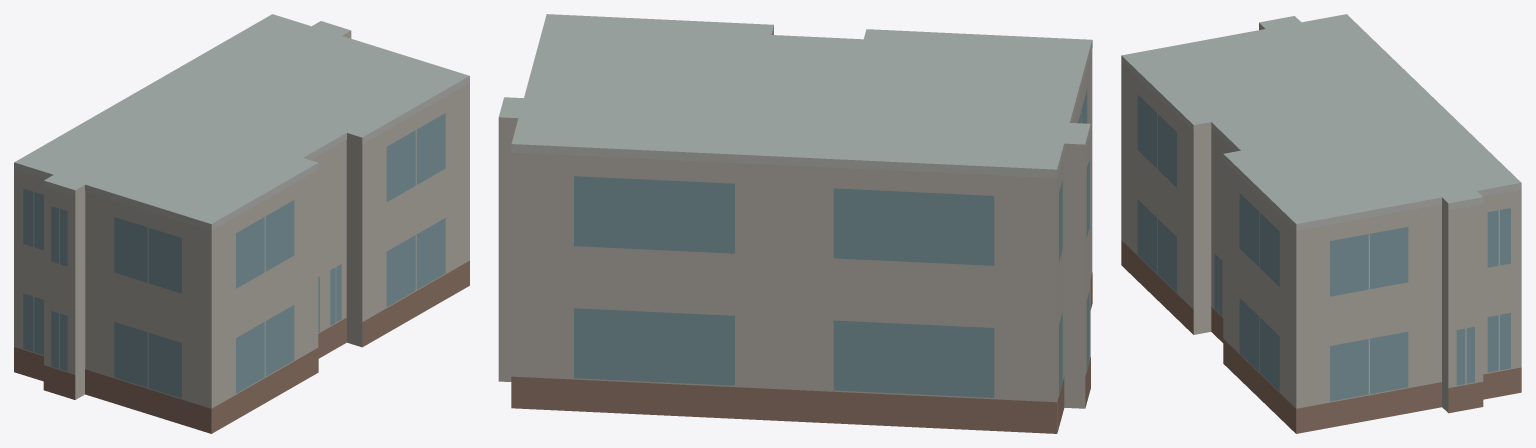
The model's file is survey-upis-32744209.glb.
3 views of the same model, side by side, from view 1: azimuth 30°, elevation 25°; view 2: azimuth 150°, elevation 25°; view 3: azimuth 270°, elevation 25° (orthographic). The views are drawn at different scales.
Parts seen in each view (by area): view 1: survey-upis-32744209.tmp; view 2: survey-upis-32744209.tmp; view 3: survey-upis-32744209.tmp.
Boxes of the visible parts, left/top/right/bottom form: survey-upis-32744209.tmp: left=14, top=14, right=469, bottom=433; survey-upis-32744209.tmp: left=498, top=14, right=1092, bottom=433; survey-upis-32744209.tmp: left=1121, top=14, right=1521, bottom=433.
Bounding box in the file's own units: 16.33 × 7.6 × 13.15.
